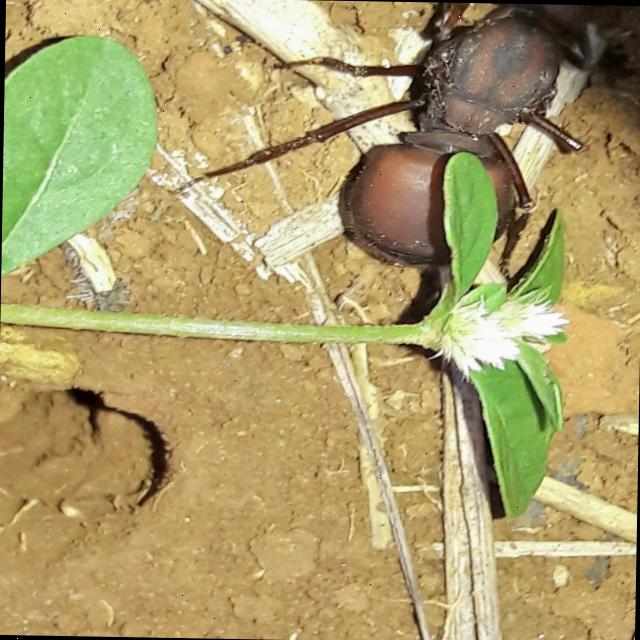Alive-Female-Dealate: (178, 0, 640, 274)
